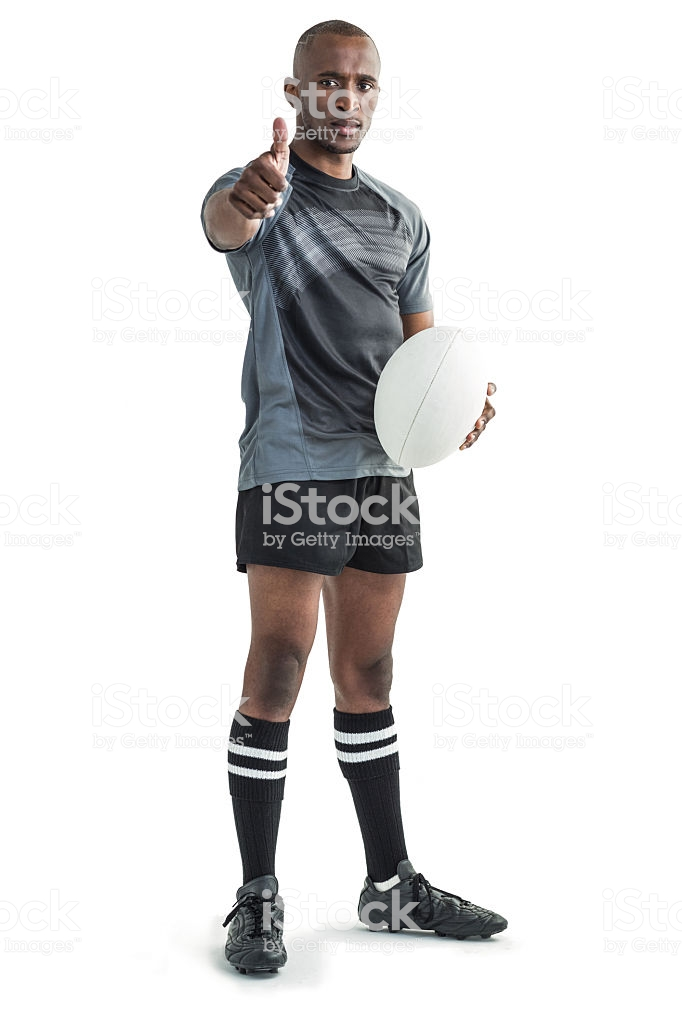thumbsup: (227, 116, 289, 221)
